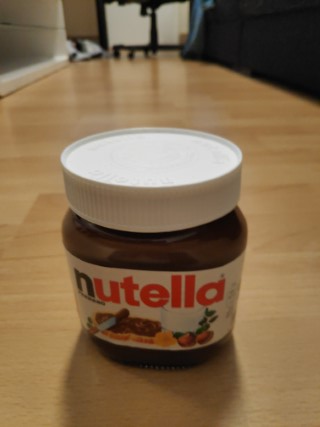nutella: (57, 125, 250, 373)
